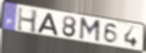4: (124, 25, 140, 48)
6: (103, 23, 118, 45)
8: (62, 16, 78, 39)
A: (37, 13, 59, 37)
H: (16, 6, 39, 35)
M: (78, 17, 102, 44)
